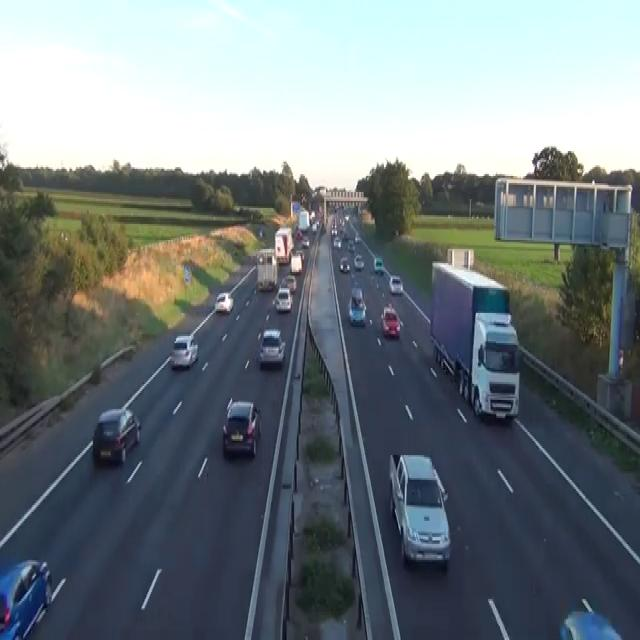Car: (388, 452, 451, 567), (0, 558, 52, 638), (92, 407, 141, 464), (222, 398, 261, 457), (559, 610, 626, 638), (258, 327, 285, 366), (169, 332, 198, 368), (380, 304, 400, 338), (348, 288, 366, 325), (272, 286, 292, 311), (214, 291, 233, 313), (281, 274, 297, 293), (388, 276, 402, 295), (373, 256, 383, 274), (339, 256, 350, 272), (354, 252, 364, 268), (59, 229, 68, 242), (296, 249, 304, 263), (332, 237, 341, 247), (347, 240, 355, 251), (301, 237, 309, 247), (295, 228, 303, 238), (331, 224, 337, 236), (446, 182, 455, 190), (311, 222, 317, 233), (329, 202, 335, 212), (355, 231, 360, 242), (321, 222, 326, 233), (393, 228, 399, 236), (258, 254, 263, 263), (343, 213, 349, 220), (259, 228, 264, 236)
Truck: (429, 258, 520, 421), (256, 247, 277, 290), (274, 226, 293, 263), (298, 208, 310, 231), (291, 201, 300, 219)
